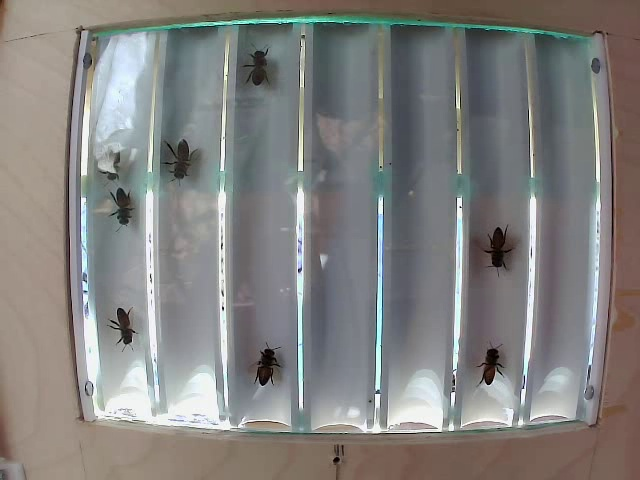bee: (95, 179, 150, 230), (235, 38, 281, 91), (156, 132, 203, 182), (475, 328, 513, 381), (245, 344, 290, 385), (97, 309, 138, 350), (483, 223, 522, 264)
